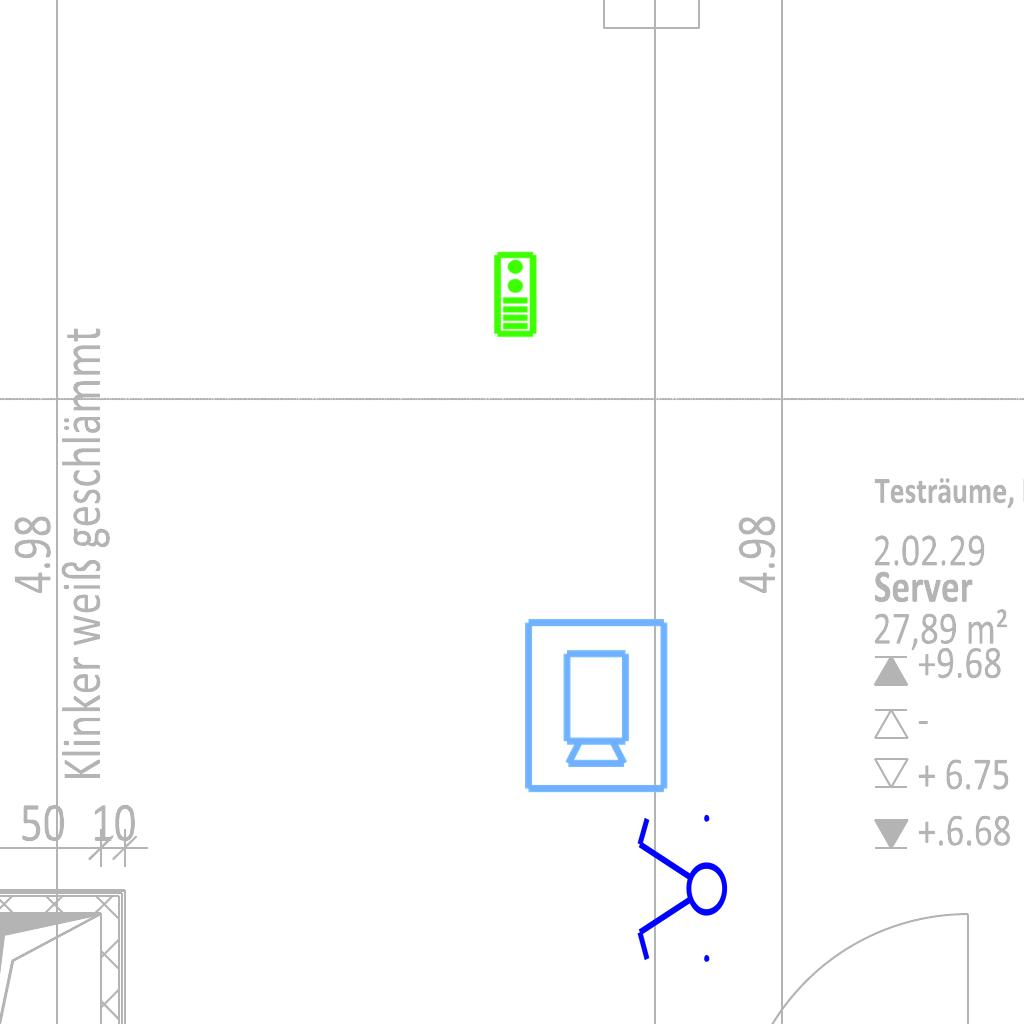Gegensprechanlage_mit_Video: (491, 250, 538, 338)
KFO_Kamera_mit_Festobjektiv: (518, 614, 672, 796)
Serienschalter: (633, 806, 729, 974)
